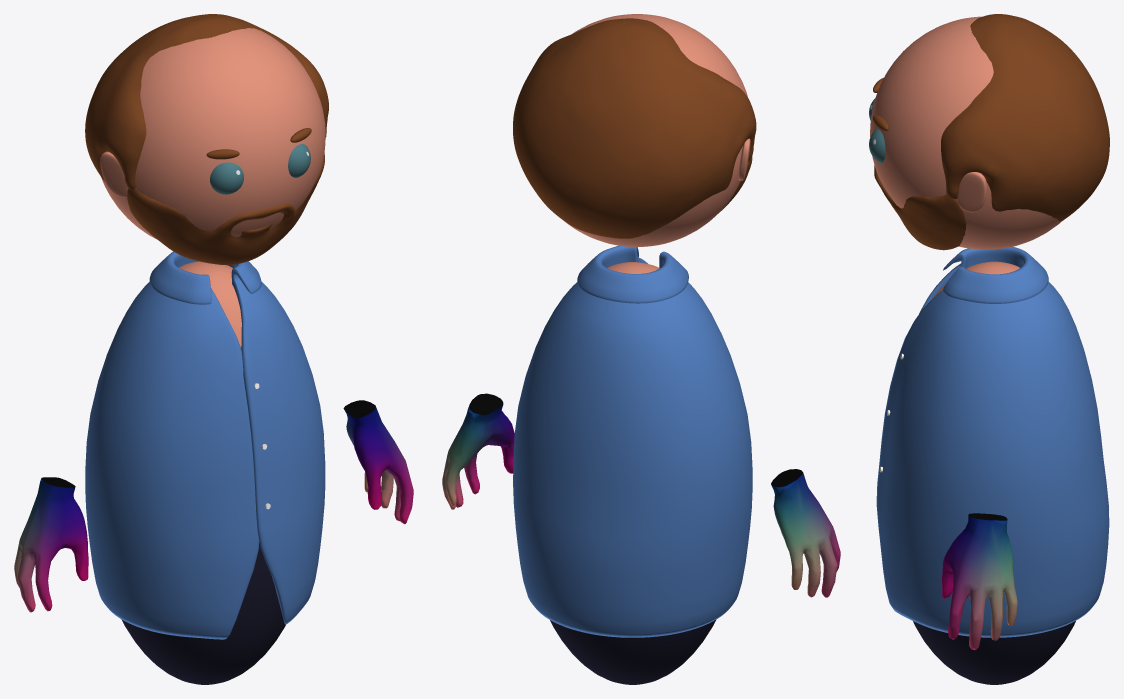
File: DrHogue.fbx
3 views of the same model, side by side, from view 1: azimuth 30°, elevation 25°; view 2: azimuth 150°, elevation 25°; view 3: azimuth 270°, elevation 25° (orthographic).
Visible parts, largest first — view 1: Shirt.007, Head.015, Hands.015, Body.022, Hair.009, Beard.004, Eyes.015, Cube.024; view 2: Shirt.007, Hair.009, Hands.015, Body.022, Head.015; view 3: Shirt.007, Hair.009, Head.015, Hands.015, Body.022, Beard.004, Cube.024, Eyes.015.
Boxes of the visible parts, x1=… form: Shirt.007: x1=85, y1=251, x2=325, y2=639; Head.015: x1=101, y1=28, x2=325, y2=239; Hands.015: x1=14, y1=400, x2=413, y2=612; Body.022: x1=121, y1=261, x2=285, y2=684; Hair.009: x1=85, y1=14, x2=328, y2=189; Beard.004: x1=127, y1=152, x2=324, y2=265; Eyes.015: x1=210, y1=144, x2=310, y2=194; Cube.024: x1=100, y1=151, x2=127, y2=197; Shirt.007: x1=513, y1=245, x2=752, y2=637; Hair.009: x1=513, y1=18, x2=756, y2=238; Hands.015: x1=442, y1=393, x2=840, y2=597; Body.022: x1=550, y1=262, x2=715, y2=684; Head.015: x1=562, y1=14, x2=747, y2=246; Shirt.007: x1=876, y1=247, x2=1109, y2=637; Hair.009: x1=941, y1=14, x2=1109, y2=221; Head.015: x1=870, y1=16, x2=1060, y2=249; Hands.015: x1=941, y1=513, x2=1017, y2=649; Body.022: x1=913, y1=261, x2=1075, y2=684; Beard.004: x1=874, y1=165, x2=966, y2=250; Cube.024: x1=957, y1=172, x2=987, y2=212; Eyes.015: x1=869, y1=98, x2=885, y2=162.
Bounding box in the file's own units: 383 × 616 × 205.
